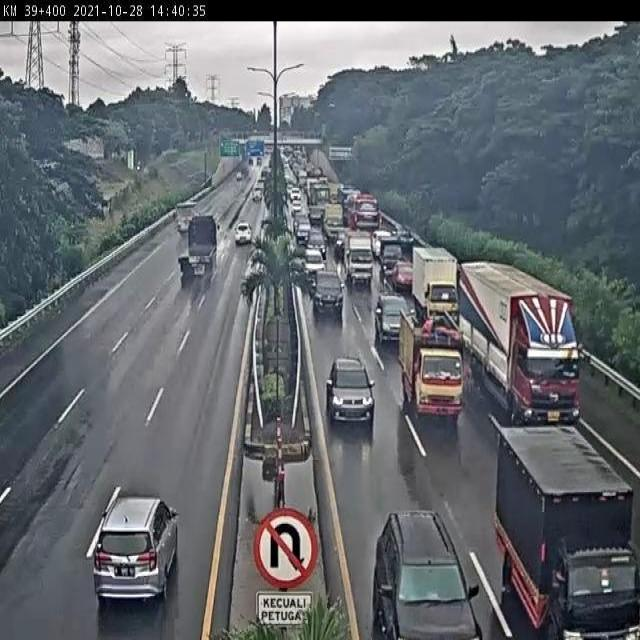Car: (371, 510, 483, 638), (80, 481, 190, 602), (326, 355, 376, 426), (373, 293, 410, 344), (309, 272, 346, 312), (392, 258, 414, 292), (301, 249, 325, 277), (306, 228, 328, 255), (234, 222, 252, 245), (250, 185, 265, 204)
Truck: (501, 419, 640, 640), (457, 259, 581, 426), (398, 309, 468, 424), (411, 246, 458, 327), (179, 213, 219, 287), (344, 233, 376, 286), (323, 204, 348, 238)
